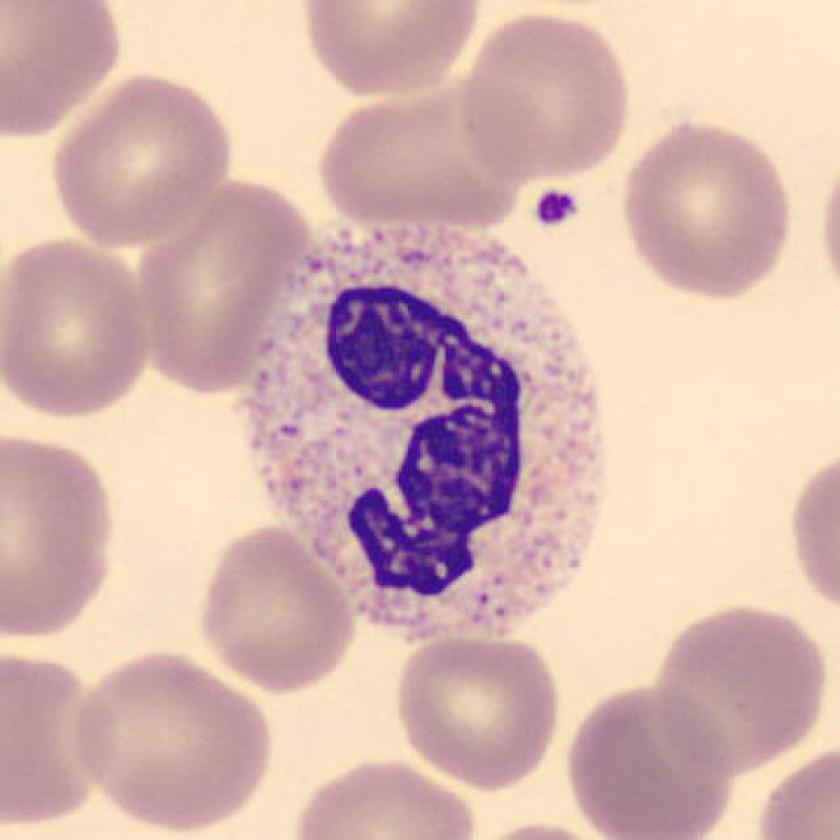neutrophil: (257, 218, 605, 646)
